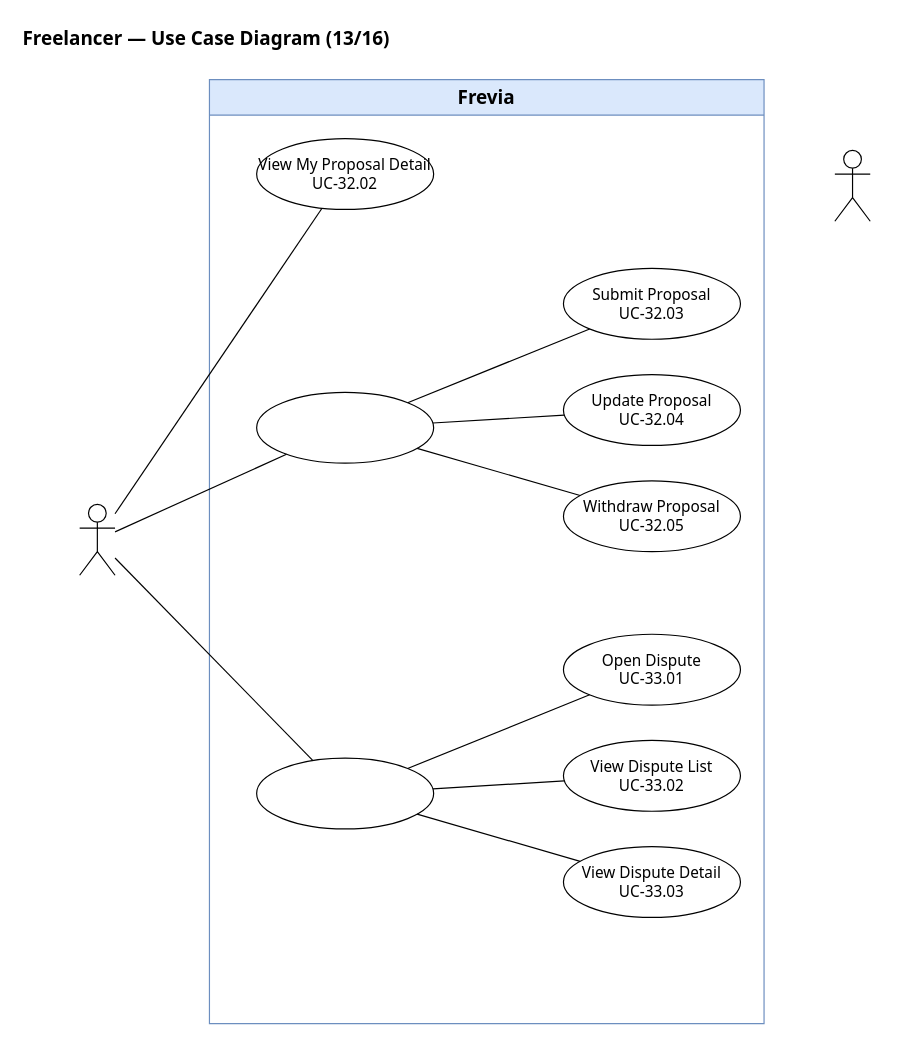
Image size: 897x1044. Some labels were removed from this diagram. Here are the shapes that lost their labels. From the top down, the centre of each, then its label:
[852,185]: Stripe
[344,427]: Proposal Management UC-32
[96,539]: Freelancer
[344,793]: Dispute Management UC-33
